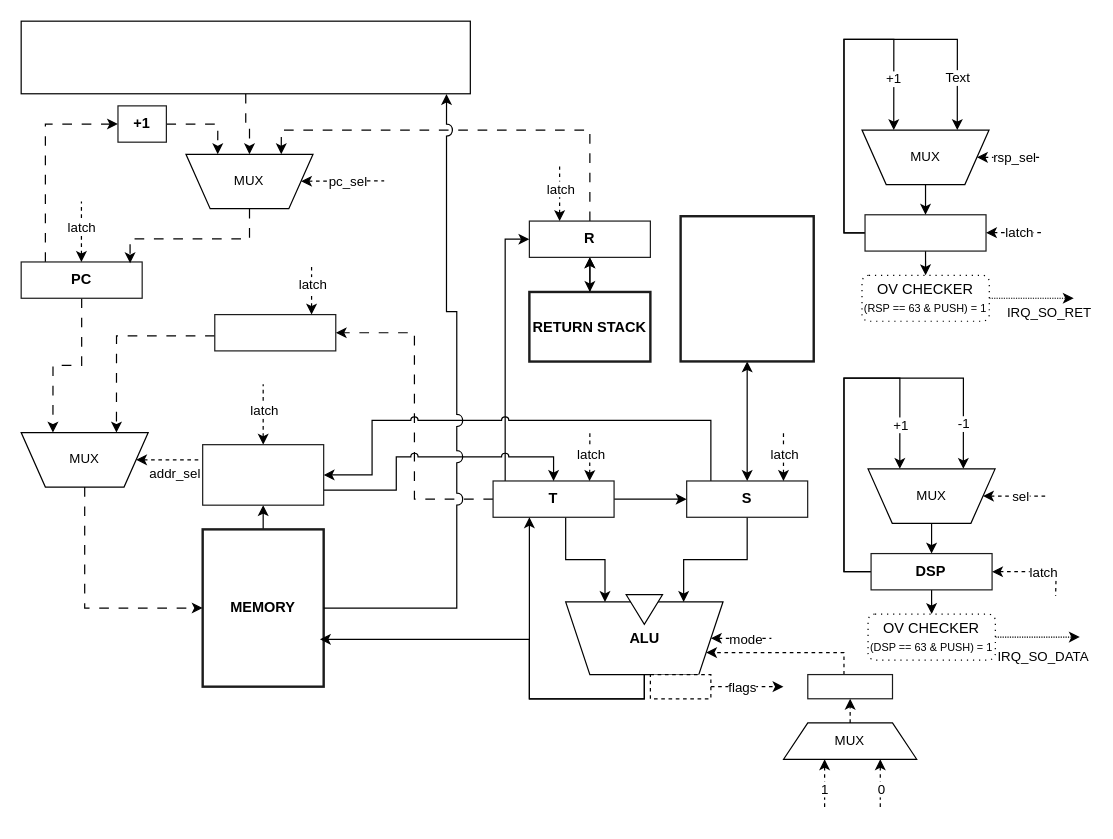
Image size: 1113x839. Some labels were removed from this diagram. The shapes that lost their labels are listed below. From the top down, each one's centre as x and y in pixels, then its label:
At (x=245, y=57): "Control Unit (hardwired)".
At (x=925, y=232): "RSP".
At (x=746, y=288): "DATA STACK".
At (x=275, y=332): "AR".
At (x=262, y=474): "DR".
At (x=680, y=686): "NZV".
At (x=849, y=686): "EAM".
